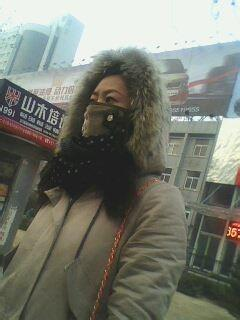OK: (81, 84, 135, 143)
